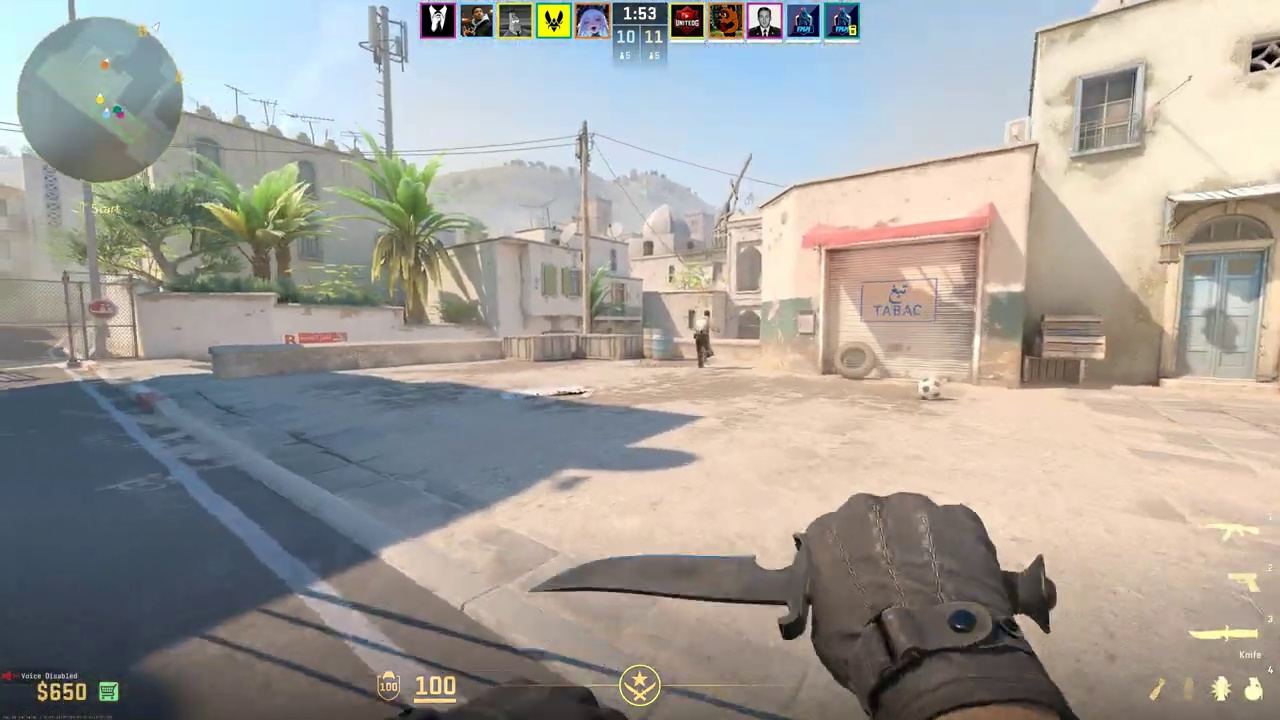Terrorist: (694, 309, 716, 369)
